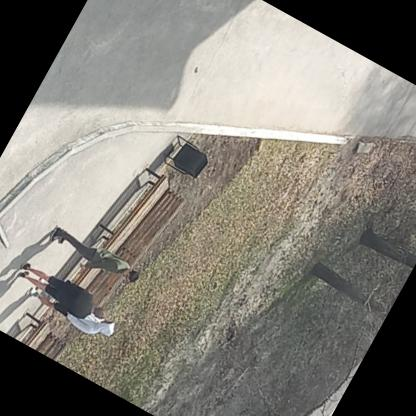Human Body: (14, 256, 108, 326), (44, 221, 142, 288), (23, 275, 118, 342)
